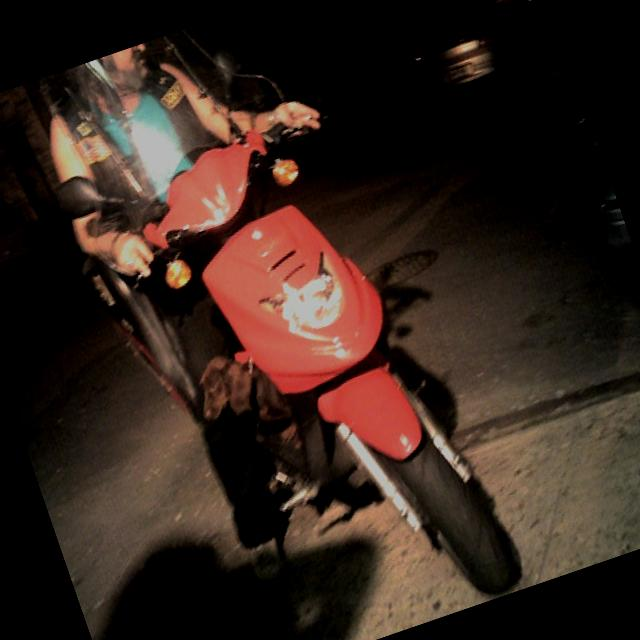Vehicle: (18, 0, 536, 640), (535, 71, 640, 280), (407, 0, 512, 109), (0, 182, 52, 321)
